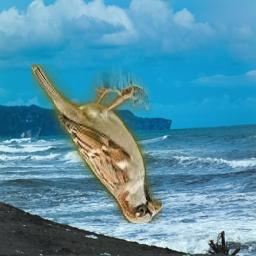Sparrow: (32, 65, 163, 224)
